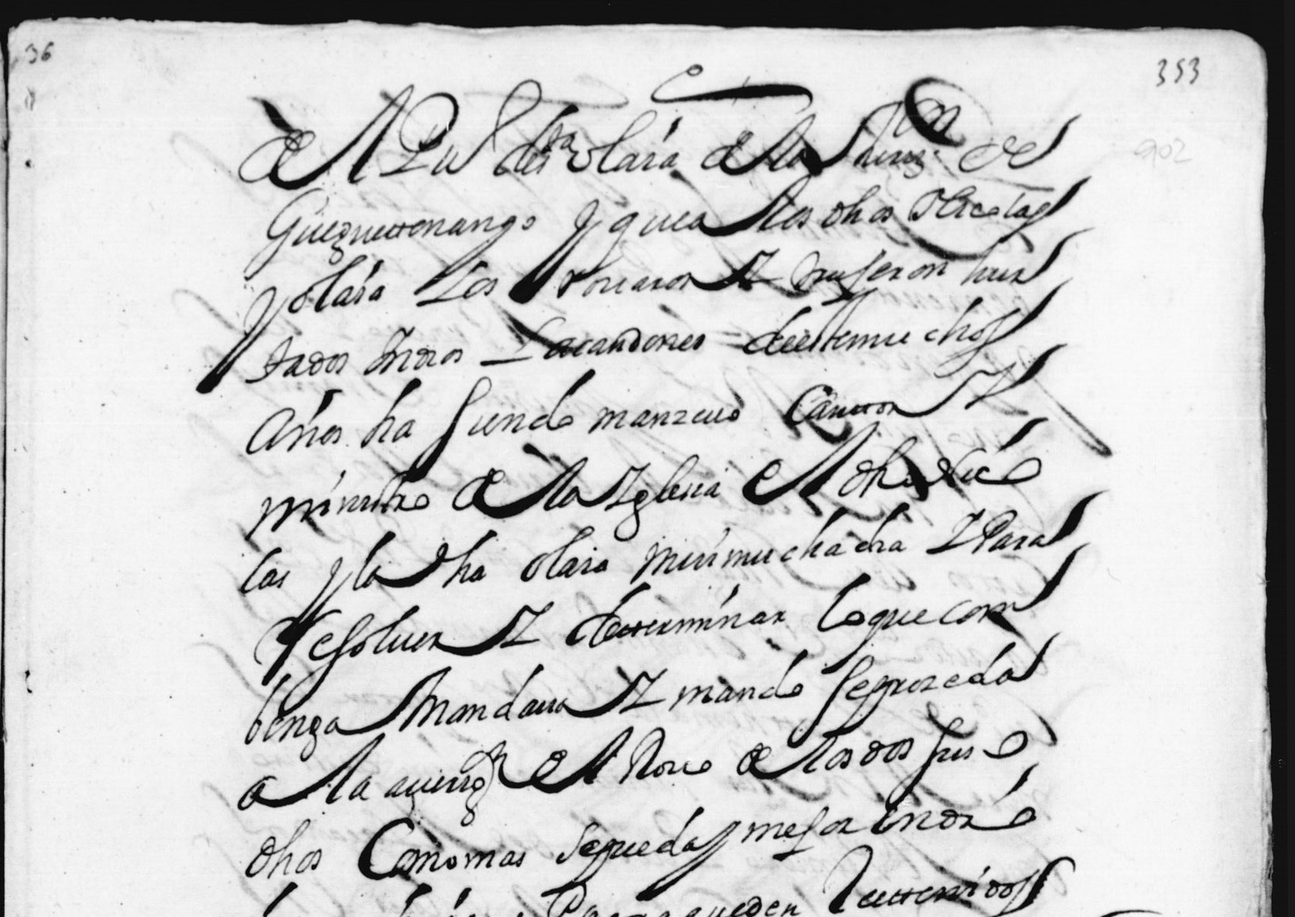lacandon: (480, 316, 706, 366)
